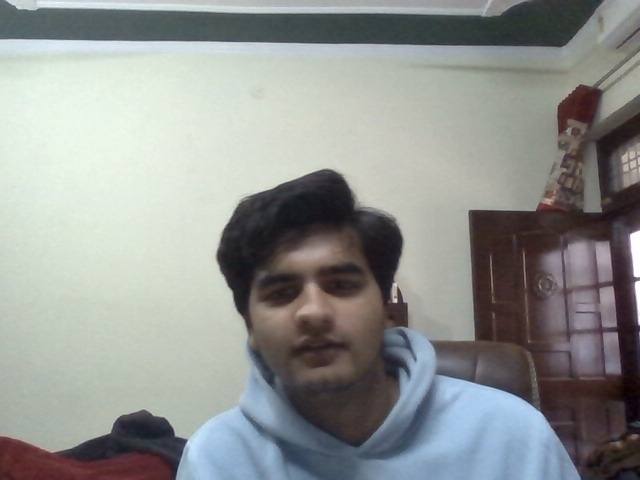surprise: (251, 254, 379, 383)
